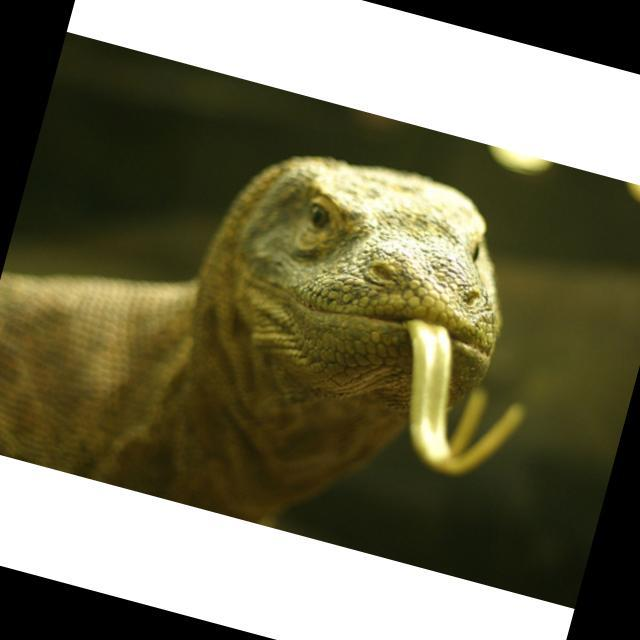KomodoDragon: (0, 74, 577, 581)
